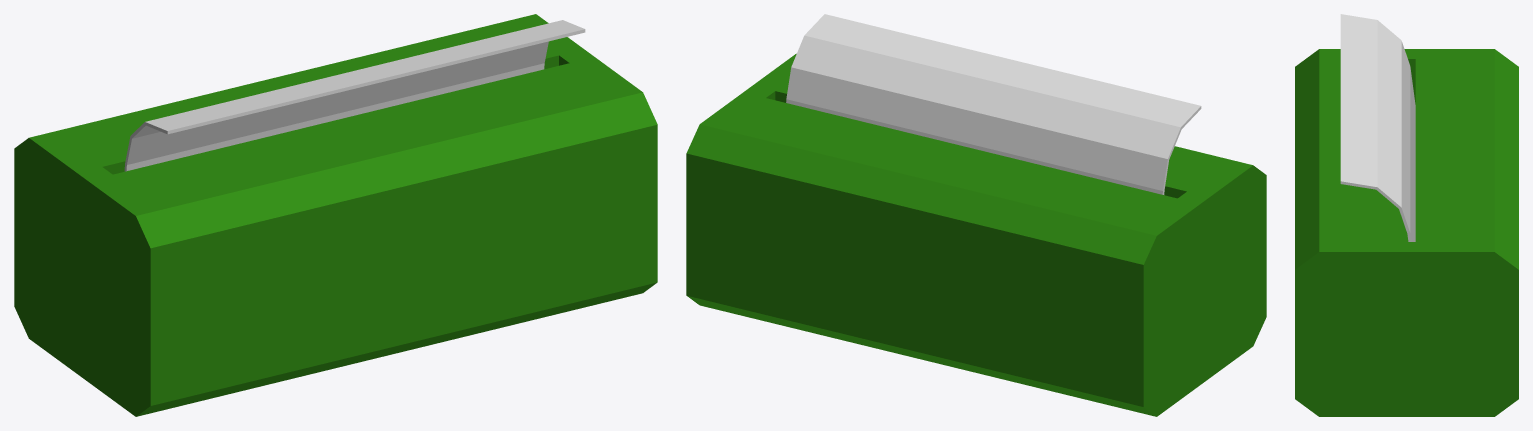
Rendered from C_Clean_Paper.fbx.
The picture shows the model from 3 angles, left to right: view 1: azimuth 30°, elevation 25°; view 2: azimuth 150°, elevation 25°; view 3: azimuth 270°, elevation 25°; orthographic projection. The views are drawn at different scales.
Parts seen in each view (by area): view 1: C_Clean_Paper; view 2: C_Clean_Paper; view 3: C_Clean_Paper.
Part boxes in pixels (x1,y1,x2,y2): C_Clean_Paper: [14, 14, 657, 416]; C_Clean_Paper: [686, 14, 1266, 416]; C_Clean_Paper: [1295, 14, 1518, 416].
Bounding box in the file's own units: 146 × 67.75 × 72.78.
